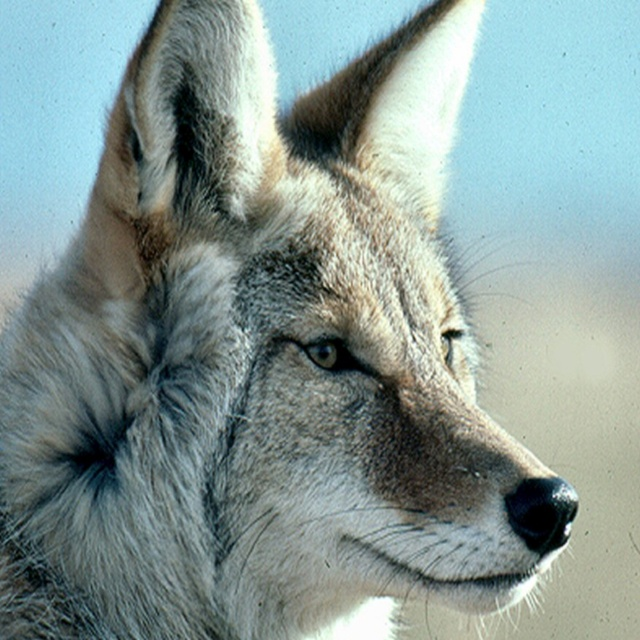Fox: (0, 0, 580, 640)
